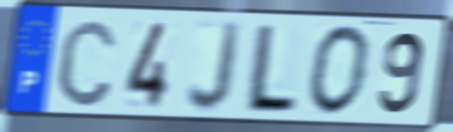4: (121, 19, 172, 111)
9: (378, 30, 425, 116)
C: (53, 15, 120, 110)
J: (184, 18, 245, 116)
L: (239, 21, 302, 116)
O: (306, 23, 374, 119)
